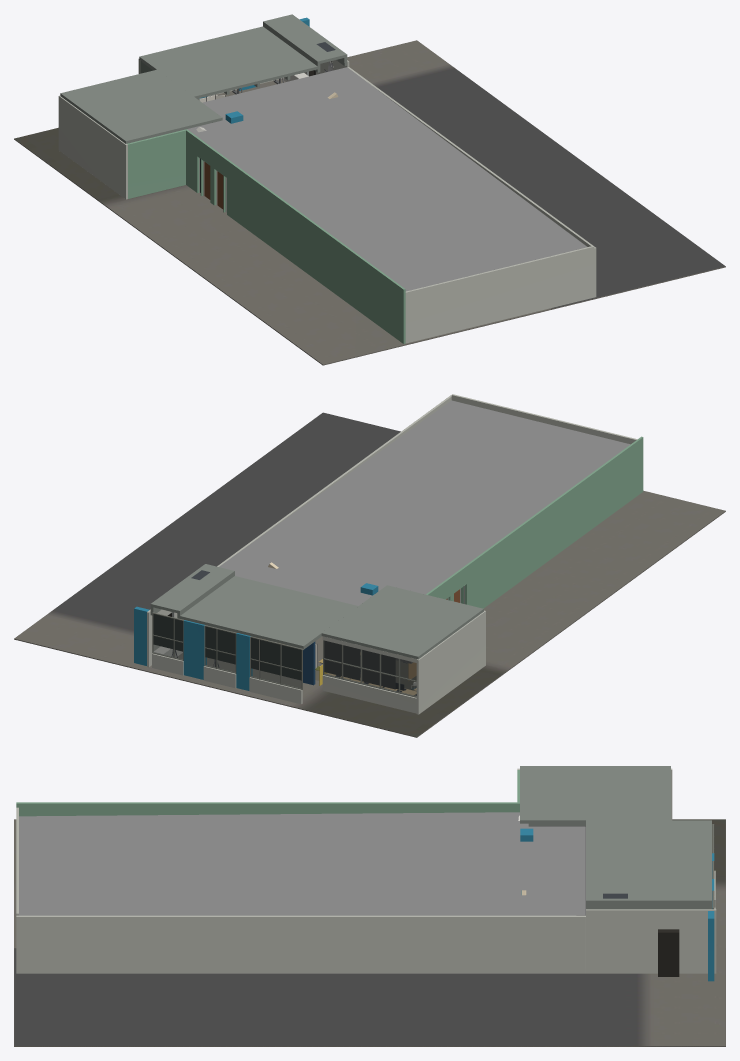
Rendered from env.glb.
3 views of the same model, one above another, from view 1: azimuth 30°, elevation 25°; view 2: azimuth 150°, elevation 25°; view 3: azimuth 270°, elevation 25° (orthographic). The views are drawn at different scales.
Visible parts, largest first — view 1: w_env; view 2: w_env; view 3: w_env.
Part boxes in pixels (x1,y1,x2,y2): w_env: (14,14,725,365); w_env: (14,394,725,737); w_env: (14,766,725,1046).
Size of the model in its own units: 24 by 3.59 by 31.88.
111 materials, 9 textured.
